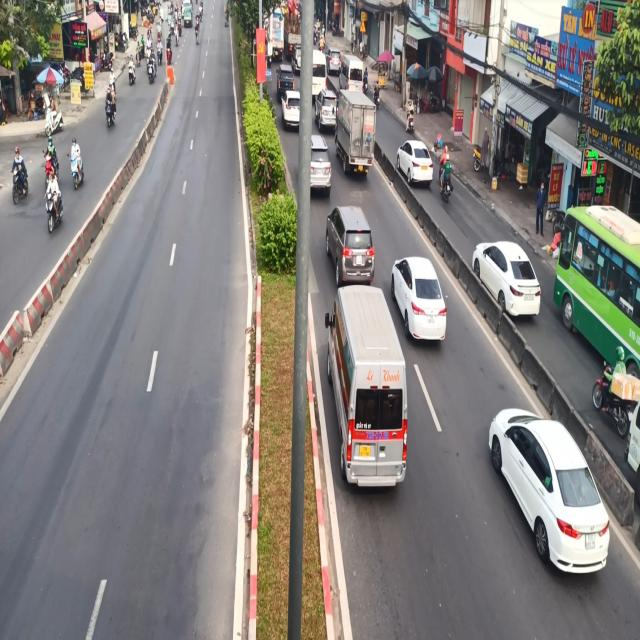car: (478, 397, 612, 589), (327, 287, 418, 496), (390, 241, 450, 355), (324, 196, 377, 283)
motor: (67, 133, 87, 189), (100, 72, 118, 132)
